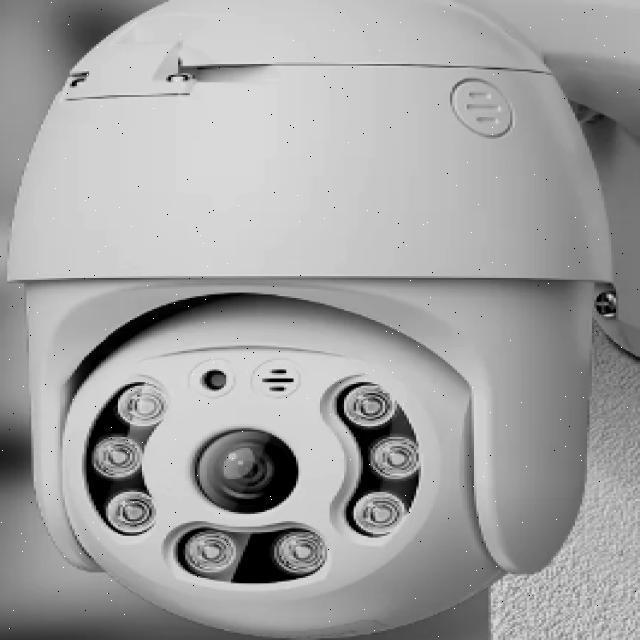cctv: (11, 31, 632, 639)
